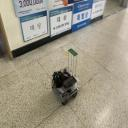cart: (50, 66, 80, 106)
